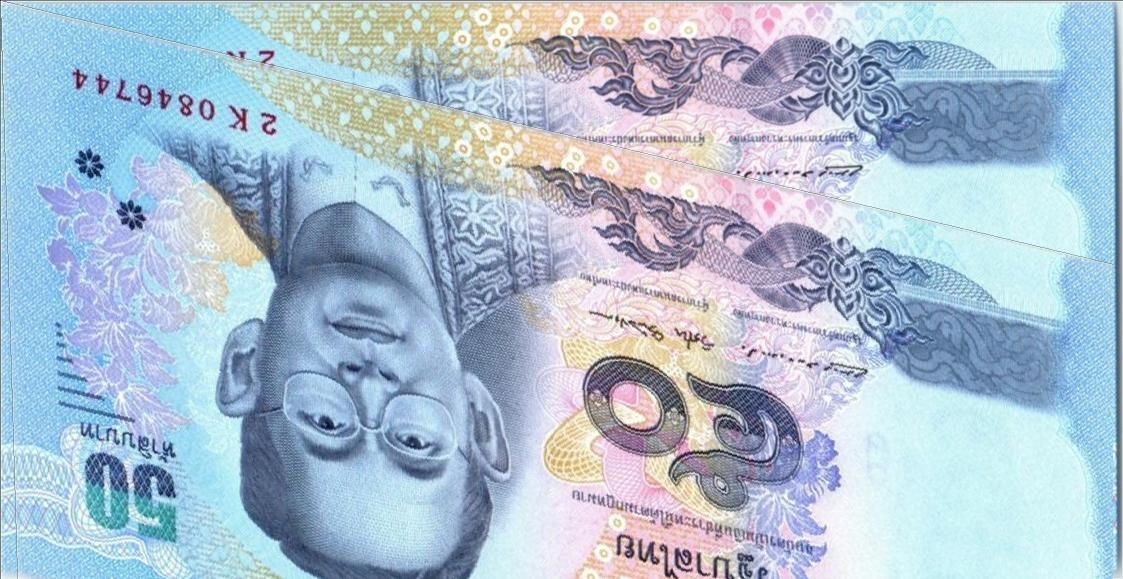50BahtTai: (0, 0, 1113, 579)
